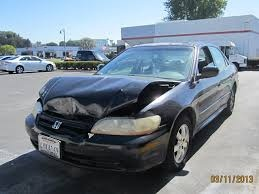Dent: (38, 76, 183, 116)
